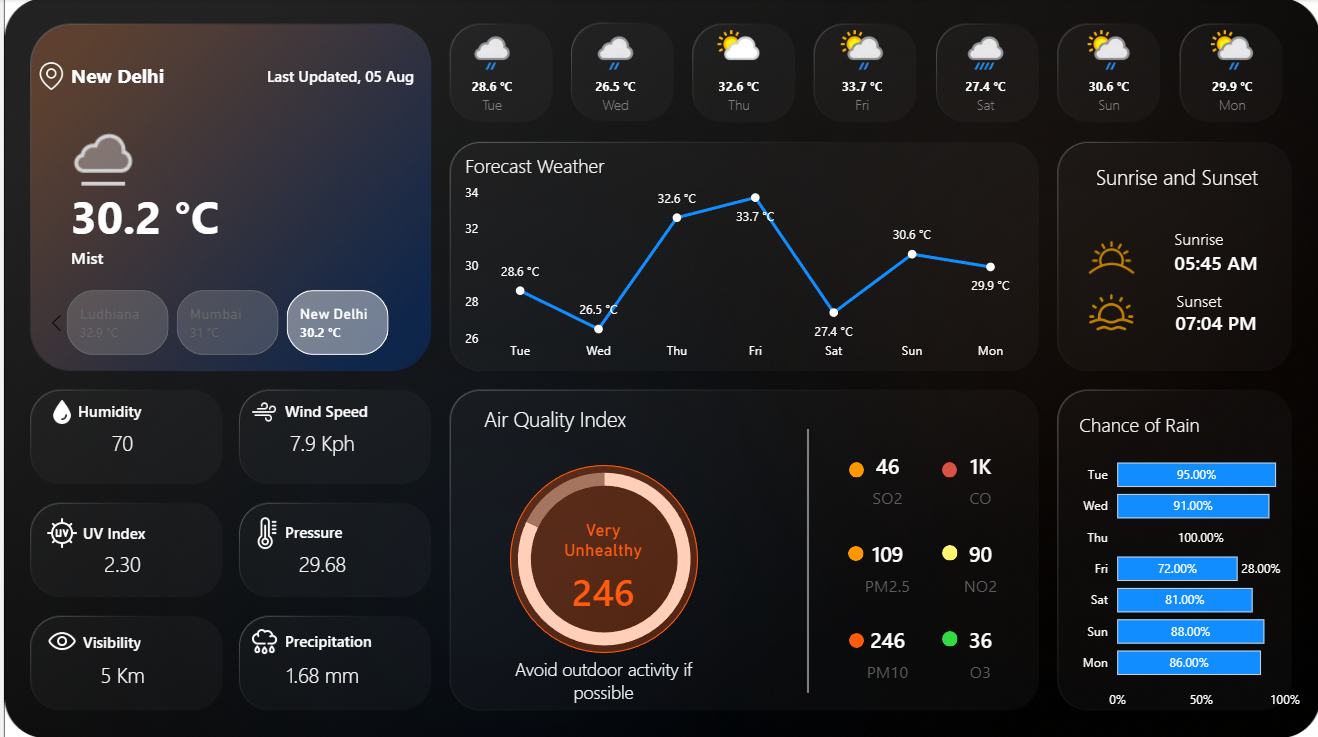

Layout of this report page (visuals, bound fields, positions):
{"tool":"powerbi","page":{"name":"Page 1","canvas":[1280,720],"ordinal":0},"visuals":[{"type":"advancedSlicerVisual","fields":{"Values":["Locations.location.name"]},"box":[36,278.2,363.8,73.9],"z":0},{"type":"shape","box":[65.2,148.8,271.4,124.5],"z":1000},{"type":"shape","box":[65.2,211.1,208.1,81.7],"z":2000},{"type":"shape","box":[65.2,34,208.1,81.7],"z":3000},{"type":"shape","box":[255.5,33.6,162.7,81.8],"z":4000},{"type":"image","box":[17.5,56.4,56.4,37],"z":5000},{"type":"cardVisual","fields":{"Data":["Min(Current.current.condition.icon)"]},"box":[17.5,93.4,136.2,118.7],"z":6000},{"type":"image","box":[36,603,40.9,43.8],"z":7000},{"type":"shape","box":[76.8,584.6,162.4,81.7],"z":8000},{"type":"image","box":[36,499,40.9,40.9],"z":9000},{"type":"shape","box":[76.8,478.5,162.4,81.7],"z":10000},{"type":"shape","box":[72,359.9,162.4,81.7],"z":11000},{"type":"shape","box":[273.3,359.9,162.4,82.7],"z":12000},{"type":"shape","box":[273.3,477.6,162.4,82.7],"z":13000},{"type":"shape","box":[273.3,583.6,162.4,82.7],"z":14000},{"type":"image","box":[37,384.2,38.9,35],"z":15000},{"type":"image","box":[235.4,496,40.9,46.7],"z":16000},{"type":"image","box":[233.4,603,39.9,44.7],"z":17000},{"type":"image","box":[232.5,384.2,41.8,35],"z":18000},{"type":"card","fields":{"Values":["Sum(Current.current.humidity)"]},"box":[61.3,389.1,108,89.5],"z":19000},{"type":"card","fields":{"Values":["Sum(Current.current.uv)"]},"box":[61.3,506.7,108,89.5],"z":20000},{"type":"card","fields":{"Values":["Measurese.Visibility"]},"box":[61.3,614.7,108,89.5],"z":21000},{"type":"card","fields":{"Values":["Sum(Current.current.pressure_in)"]},"box":[255.8,506.7,108,89.5],"z":22000},{"type":"card","fields":{"Values":["Measurese.MeaWind_Speed"]},"box":[256,389.3,107.7,89.6],"z":23000},{"type":"card","fields":{"Values":["Measurese.pp"]},"box":[256,614.4,107.7,89.6],"z":24000},{"type":"advancedSlicerVisual","fields":{"Values":["Forecast_Day.Day_Name"]},"box":[418.2,17.5,836.5,114.8],"z":25000},{"type":"lineChart","title":"Forecast Weather","fields":{"Y":["Sum(Forecast_Day.forecast.forecastday.day.avgtemp_c)"],"Category":["Forecast_Day.Day_Name"]},"box":[443.5,148.8,551.5,211.1],"z":26000},{"type":"shape","box":[1040.7,148.8,200.4,47.7],"z":27000},{"type":"shape","box":[1113.7,211.1,97.3,43.8],"z":28000},{"type":"shape","box":[1113.7,271.4,97.3,43.8],"z":29000},{"type":"shape","box":[1130.5,234.7,97.3,43.8],"z":30000},{"type":"shape","box":[1130.5,293,97.3,43.8],"z":31000},{"type":"image","box":[1040.7,216.9,72.9,69.1],"z":32000},{"type":"image","box":[1050.5,278.2,53.5,52.5],"z":33000},{"type":"hundredPercentStackedBarChart","title":"Chance of Rain","fields":{"Category":["Forecast_Day.Day_Name"],"Y":["Sum(Forecast_Day.forecast.forecastday.day.daily_chance_of_rain)","Measurese.Left_Rain_Chance"]},"box":[1040.7,400.7,224.7,298.6],"z":34000},{"type":"shape","box":[435.7,384.2,200.4,47.7],"z":35000},{"type":"card","fields":{"Values":["Sum(Current.current.air_quality.co)"]},"box":[904.6,433.8,90.5,65.2],"z":36000},{"type":"card","fields":{"Values":["Sum(Current.current.air_quality.no2)"]},"box":[904.6,519.4,90.5,65.2],"z":37000},{"type":"card","fields":{"Values":["Sum(Current.current.air_quality.o3)"]},"box":[904.6,603,90.5,65.2],"z":38000},{"type":"card","fields":{"Values":["Sum(Current.current.air_quality.pm10)"]},"box":[814.1,603,90.5,65.2],"z":39000},{"type":"card","fields":{"Values":["Sum(Current.current.air_quality.pm2_5)"]},"box":[814.1,519.4,90.5,65.2],"z":40000},{"type":"card","fields":{"Values":["Sum(Current.current.air_quality.so2)"]},"box":[814.1,433.8,90.5,65.2],"z":41000},{"type":"shape","box":[821.5,616.9,14.6,14.6],"z":42000},{"type":"shape","box":[912.3,450.8,14.6,15.4],"z":43000},{"type":"shape","box":[820.8,532.3,15.4,14.6],"z":44000},{"type":"shape","box":[821.5,450.8,14.6,15.4],"z":45000},{"type":"shape","box":[912.3,531.5,15.4,15.4],"z":46000},{"type":"shape","box":[912.3,614.6,15.4,15.4],"z":47000},{"type":"shape","box":[743.3,417.8,77.8,256.7],"z":48000},{"type":"card","fields":{"Values":["Sum(Current.current.air_quality.pm10)"]},"box":[526.7,506.7,113.3,101.1],"z":49000},{"type":"donutChart","fields":{"Y":["Sum(Current.current.air_quality.pm10)","Measurese.Left_Value_PM10"]},"box":[456.7,434.4,253.3,220],"z":50000},{"type":"shape","box":[492.2,453.3,182.9,182.9],"z":51000},{"type":"shape","box":[470,635.6,226.7,53.3],"z":52000}]}

Visuals, with their boxes in screenshot pixels (x1, y1, x2, y2), scaled from the page's 1280x720 canvas onto the 1318x737 screenshot:
advancedSlicerVisual - Locations.location.name: [37, 285, 412, 360]
shape: [67, 152, 347, 280]
shape: [67, 216, 281, 300]
shape: [67, 35, 281, 118]
shape: [263, 34, 431, 118]
image: [18, 58, 76, 96]
cardVisual - Min(Current.current.condition.icon): [18, 96, 158, 217]
image: [37, 617, 79, 662]
shape: [79, 598, 246, 682]
image: [37, 511, 79, 553]
shape: [79, 490, 246, 573]
shape: [74, 368, 241, 452]
shape: [281, 368, 449, 453]
shape: [281, 489, 449, 574]
shape: [281, 597, 449, 682]
image: [38, 393, 78, 429]
image: [242, 508, 285, 556]
image: [240, 617, 281, 663]
image: [239, 393, 282, 429]
card - Sum(Current.current.humidity): [63, 398, 174, 490]
card - Sum(Current.current.uv): [63, 519, 174, 610]
card - Measurese.Visibility: [63, 629, 174, 721]
card - Sum(Current.current.pressure_in): [263, 519, 375, 610]
card - Measurese.MeaWind_Speed: [264, 398, 374, 490]
card - Measurese.pp: [264, 629, 374, 721]
advancedSlicerVisual - Forecast_Day.Day_Name: [431, 18, 1292, 135]
"Forecast Weather" lineChart: [457, 152, 1025, 368]
shape: [1072, 152, 1278, 201]
shape: [1147, 216, 1247, 261]
shape: [1147, 278, 1247, 323]
shape: [1164, 240, 1264, 285]
shape: [1164, 300, 1264, 345]
image: [1072, 222, 1147, 293]
image: [1082, 285, 1137, 339]
"Chance of Rain" hundredPercentStackedBarChart: [1072, 410, 1303, 716]
shape: [449, 393, 655, 442]
card - Sum(Current.current.air_quality.co): [931, 444, 1025, 511]
card - Sum(Current.current.air_quality.no2): [931, 532, 1025, 598]
card - Sum(Current.current.air_quality.o3): [931, 617, 1025, 684]
card - Sum(Current.current.air_quality.pm10): [838, 617, 931, 684]
card - Sum(Current.current.air_quality.pm2_5): [838, 532, 931, 598]
card - Sum(Current.current.air_quality.so2): [838, 444, 931, 511]
shape: [846, 631, 861, 646]
shape: [939, 461, 954, 477]
shape: [845, 545, 861, 560]
shape: [846, 461, 861, 477]
shape: [939, 544, 955, 560]
shape: [939, 629, 955, 645]
shape: [765, 428, 845, 690]
card - Sum(Current.current.air_quality.pm10): [542, 519, 659, 622]
donutChart - Sum(Current.current.air_quality.pm10) x Measurese.Left_Value_PM10: [470, 445, 731, 670]
shape: [507, 464, 695, 651]
shape: [484, 651, 717, 705]
